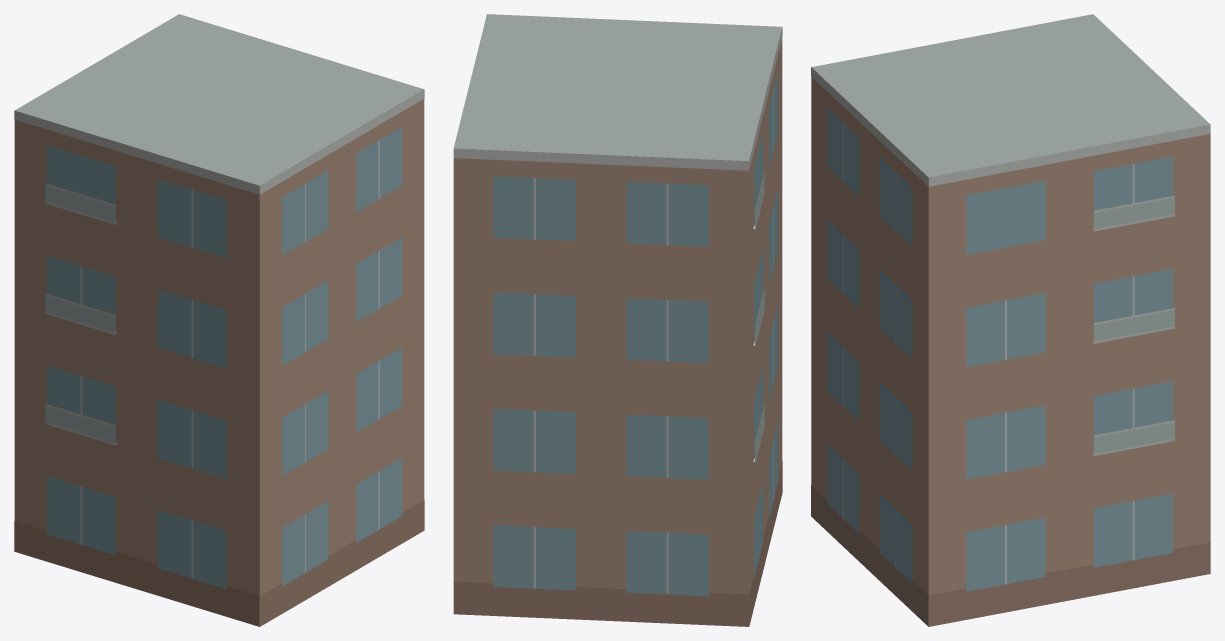
Rendered from survey-upis-32498182.glb.
The picture shows the model from 3 angles, left to right: view 1: azimuth 30°, elevation 25°; view 2: azimuth 150°, elevation 25°; view 3: azimuth 270°, elevation 25°; orthographic projection. The views are drawn at different scales.
Parts seen in each view (by area): view 1: survey-upis-32498182.tmp; view 2: survey-upis-32498182.tmp; view 3: survey-upis-32498182.tmp.
Part boxes in pixels (x1,y1,x2,y2): survey-upis-32498182.tmp: (14, 14, 424, 626); survey-upis-32498182.tmp: (453, 14, 782, 626); survey-upis-32498182.tmp: (811, 14, 1210, 626).
Bounding box in the file's own units: 9.3 × 11.9 × 9.6.
